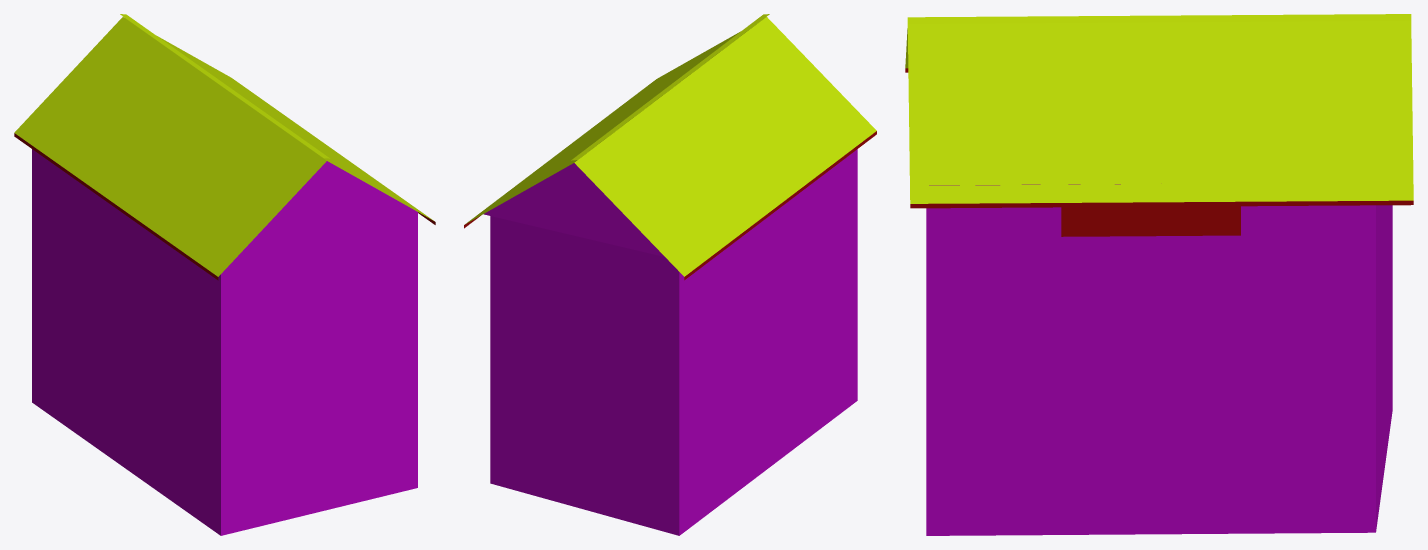
Rendered from bgj_237.glb.
3 views of the same model, side by side, from view 1: azimuth 30°, elevation 25°; view 2: azimuth 150°, elevation 25°; view 3: azimuth 270°, elevation 25° (orthographic). The views are drawn at different scales.
Parts seen in each view (by area): view 1: bgj_237; view 2: bgj_237; view 3: bgj_237.
Boxes of the visible parts, left/top/right/bottom form: bgj_237: left=14, top=14, right=435, bottom=535; bgj_237: left=464, top=14, right=876, bottom=535; bgj_237: left=905, top=14, right=1413, bottom=535.
Bounding box in the file's own units: 7.98 × 12.22 × 12.35.
